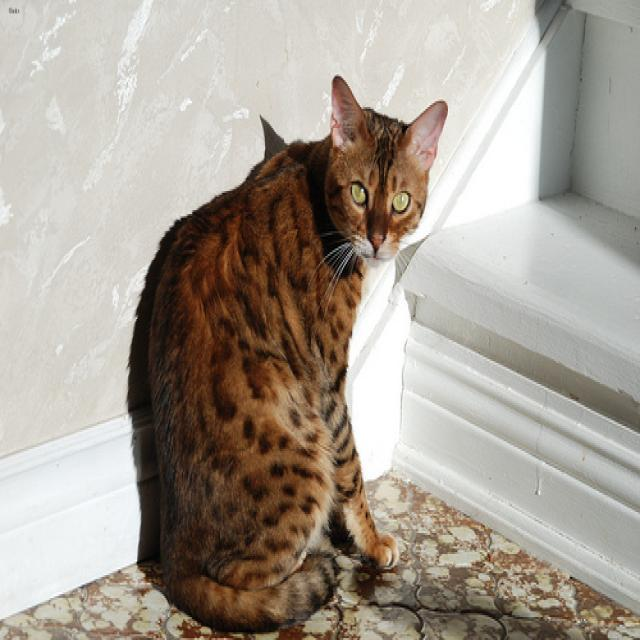Bengal: (324, 73, 447, 266)
